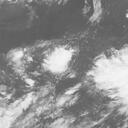cyclone: (44, 45, 72, 74)
